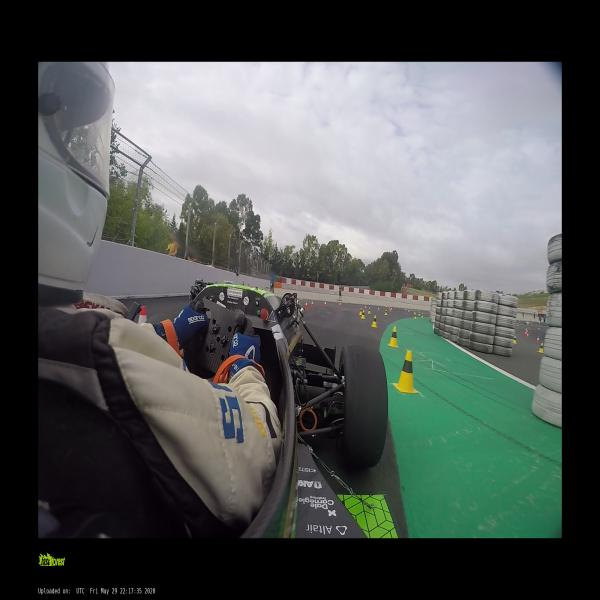orange_cone: (138, 306, 152, 349), (304, 301, 308, 310), (535, 337, 540, 343), (310, 300, 313, 308), (323, 301, 327, 307), (338, 302, 341, 308), (364, 305, 367, 311), (377, 307, 380, 312), (389, 307, 392, 312), (526, 333, 528, 337)
yellow_cone: (392, 351, 418, 394), (387, 328, 398, 348), (371, 315, 377, 327), (537, 343, 544, 353), (512, 336, 517, 344), (361, 310, 365, 319), (358, 307, 362, 315), (366, 307, 370, 314), (384, 310, 387, 316), (421, 312, 423, 318), (418, 311, 420, 316), (414, 314, 416, 318)
